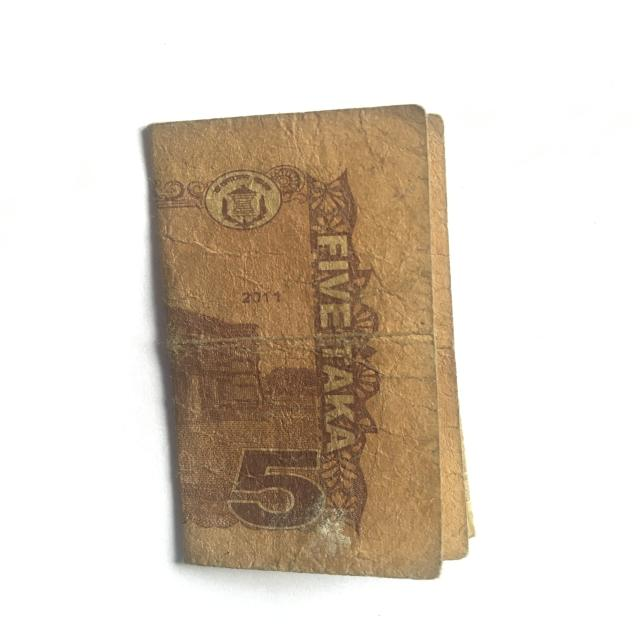Taka: (144, 107, 464, 574)
